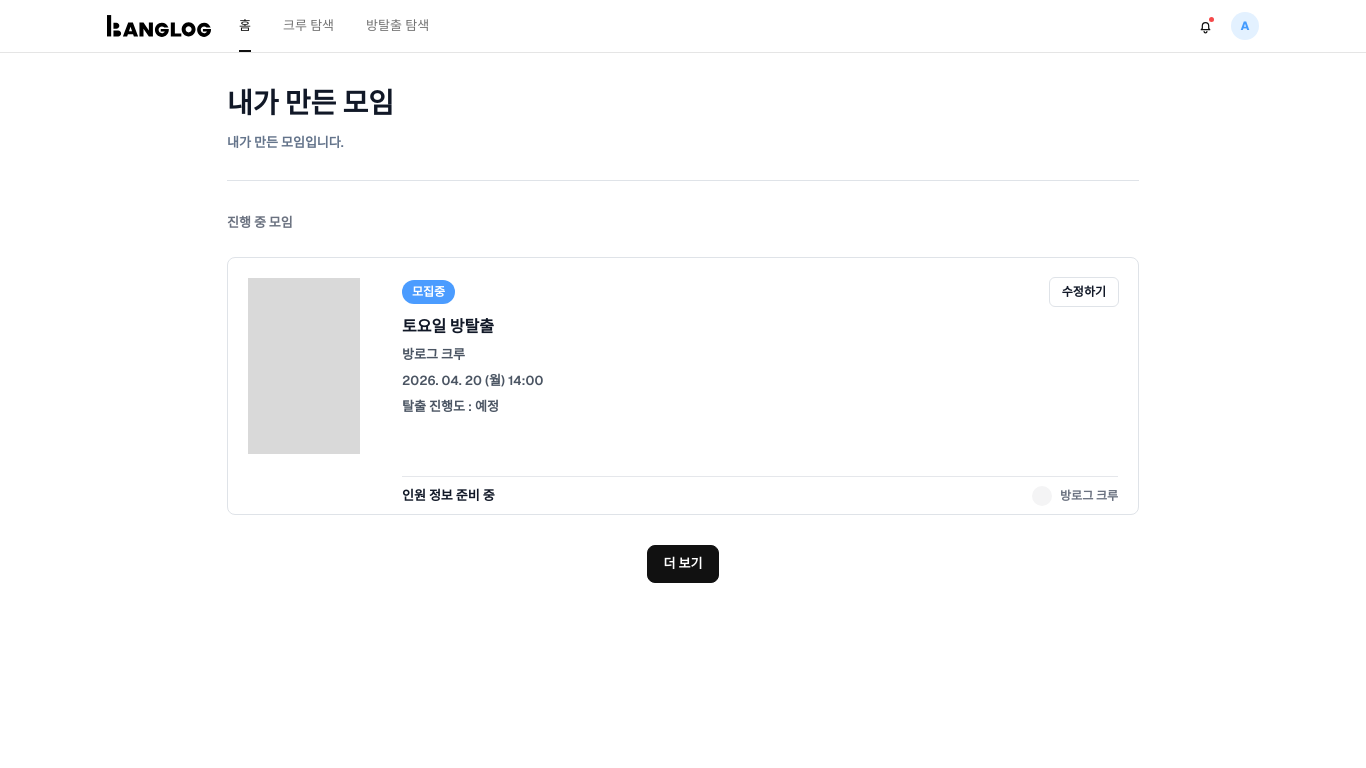
Scenario: CreatedMeetingsProfilePage › loads the next page with a 더 보기 button and keeps existing items merged
What coordinates should you click on to do the following:
click the button "더 보기"
I would click on:
 (683, 564)
Its box is top-left (647, 545), bottom-right (719, 583).
(page scrolled)
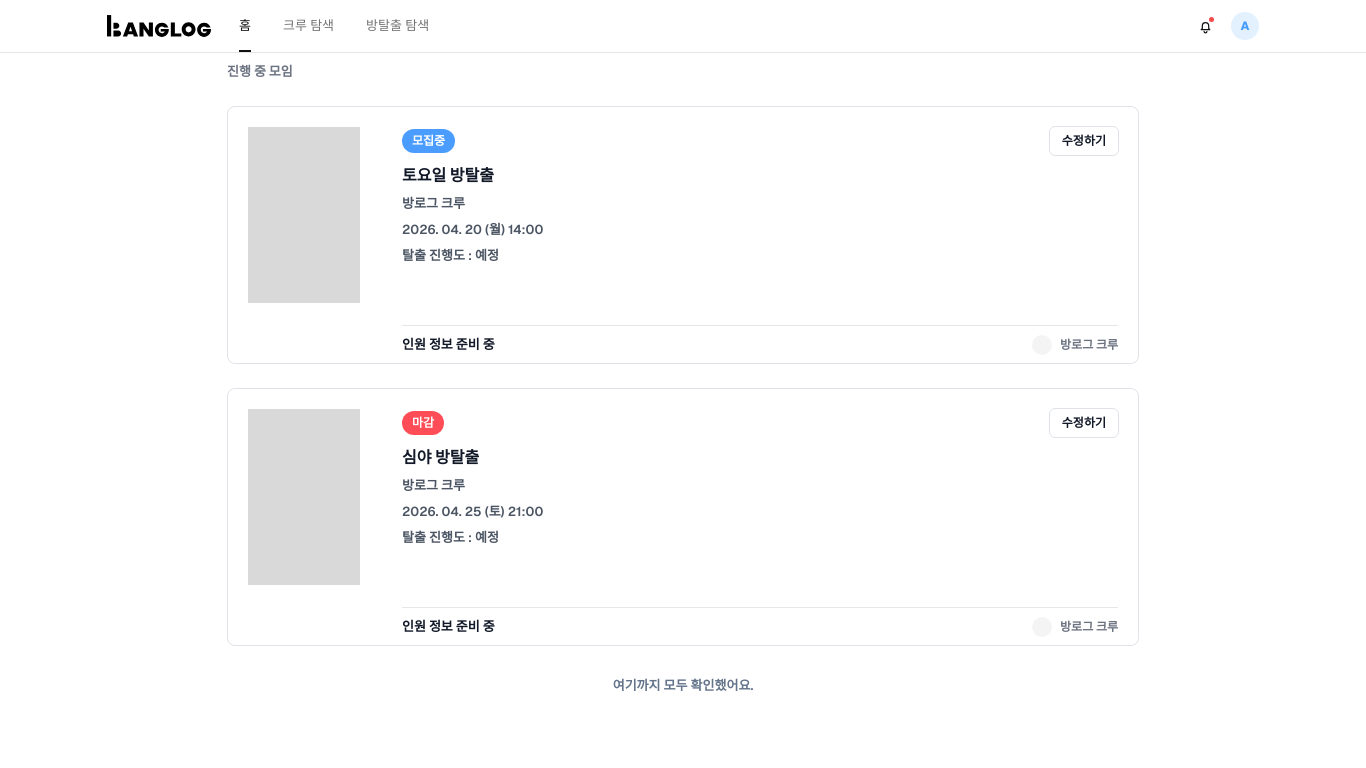
Result: the number of links "토요일 방탈출" is 1 at top-left (227, 106), bottom-right (1139, 364)
